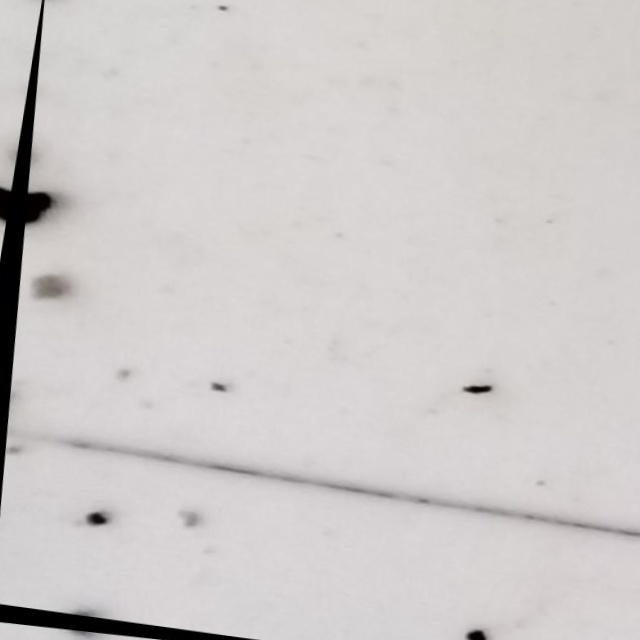varroa: (19, 187, 53, 242)
